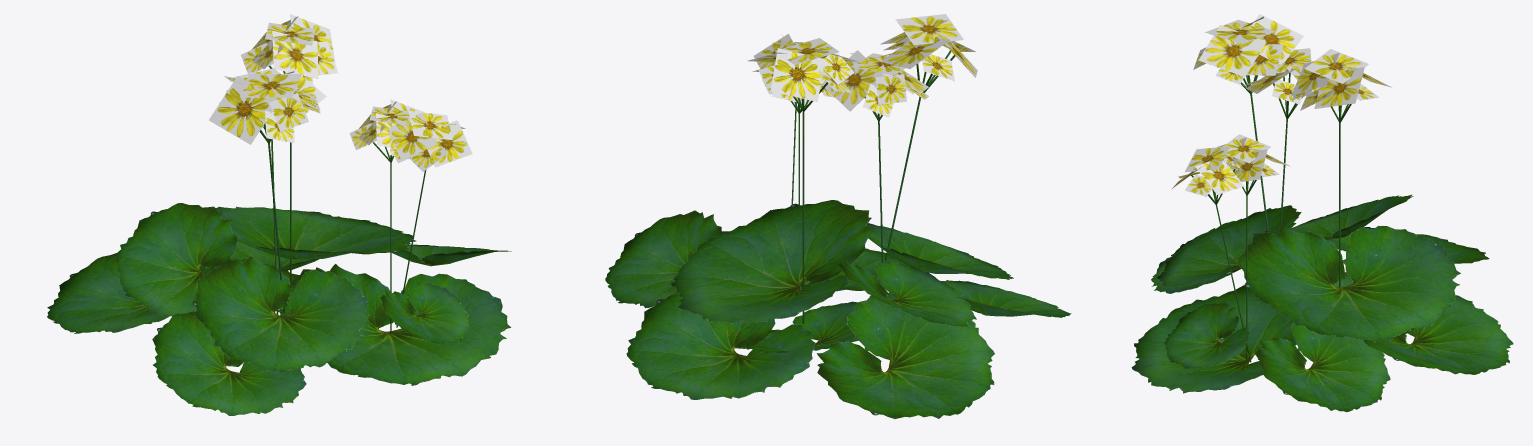
File: tsuwabuki_nocolor.fbx
3 renders of one model, left to right at view 1: azimuth 30°, elevation 25°; view 2: azimuth 150°, elevation 25°; view 3: azimuth 270°, elevation 25°, orthographic. The views are drawn at different scales.
Visible parts, largest first — view 1: 066.008, 066, 066.004, 066.006, 066.003, 066.005, 066.009, t067.011, t067, 066.001, t067.010, t067.036 (+9 smaller); view 2: 066.003, 066.005, 066.002, 066.001, 066.004, 066.008, 066.006, 066.007, t067.002, t067.010, t067.020, t067.012 (+8 smaller); view 3: 066.003, 066.001, 066, 066.002, 066.008, 066.009, 066.004, t067.009, t067.003, t067.012, t067.001, 066.005 (+12 smaller).
Boxes of the visible parts, <box> form: 066.008: <box>192,256,369,372</box>; 066: <box>279,264,511,385</box>; 066.004: <box>115,203,247,316</box>; 066.006: <box>152,311,306,415</box>; 066.003: <box>215,206,416,259</box>; 066.005: <box>47,252,219,333</box>; 066.009: <box>380,282,470,343</box>; t067.011: <box>209,76,277,144</box>; t067: <box>272,31,318,78</box>; 066.001: <box>391,244,511,266</box>; t067.010: <box>240,74,301,97</box>; t067.036: <box>388,112,437,160</box>; 066.003: <box>670,200,875,325</box>; 066.005: <box>817,292,994,419</box>; 066.002: <box>626,292,815,399</box>; 066.001: <box>605,210,721,308</box>; 066.004: <box>838,260,976,326</box>; 066.008: <box>866,223,1013,279</box>; 066.006: <box>942,280,1071,317</box>; 066.007: <box>745,301,858,352</box>; t067.002: <box>770,48,823,101</box>; t067.010: <box>895,14,963,45</box>; t067.020: <box>821,50,884,111</box>; t067.012: <box>882,36,949,68</box>; 066.003: <box>1237,225,1460,340</box>; 066.001: <box>1254,322,1390,412</box>; 066: <box>1131,285,1296,393</box>; 066.002: <box>1363,295,1513,374</box>; 066.008: <box>1157,205,1301,288</box>; 066.009: <box>1164,302,1249,368</box>; 066.004: <box>1290,194,1413,239</box>; t067.009: <box>1198,25,1266,76</box>; t067.003: <box>1314,67,1364,108</box>; t067.012: <box>1249,14,1303,64</box>; t067.001: <box>1304,49,1368,83</box>; 066.005: <box>1327,227,1489,263</box>.
Size of the model in its own units: 57.34 by 37.27 by 46.59.
Materials: 2 (2 with a texture image).
